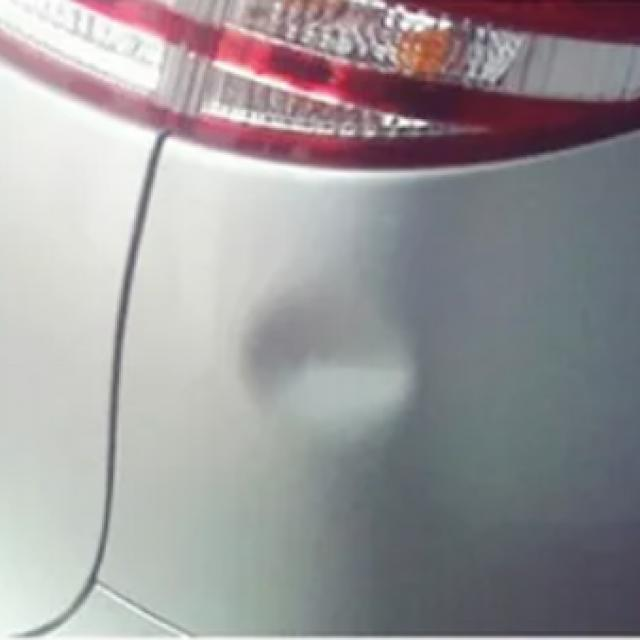dents: (246, 264, 418, 460)
